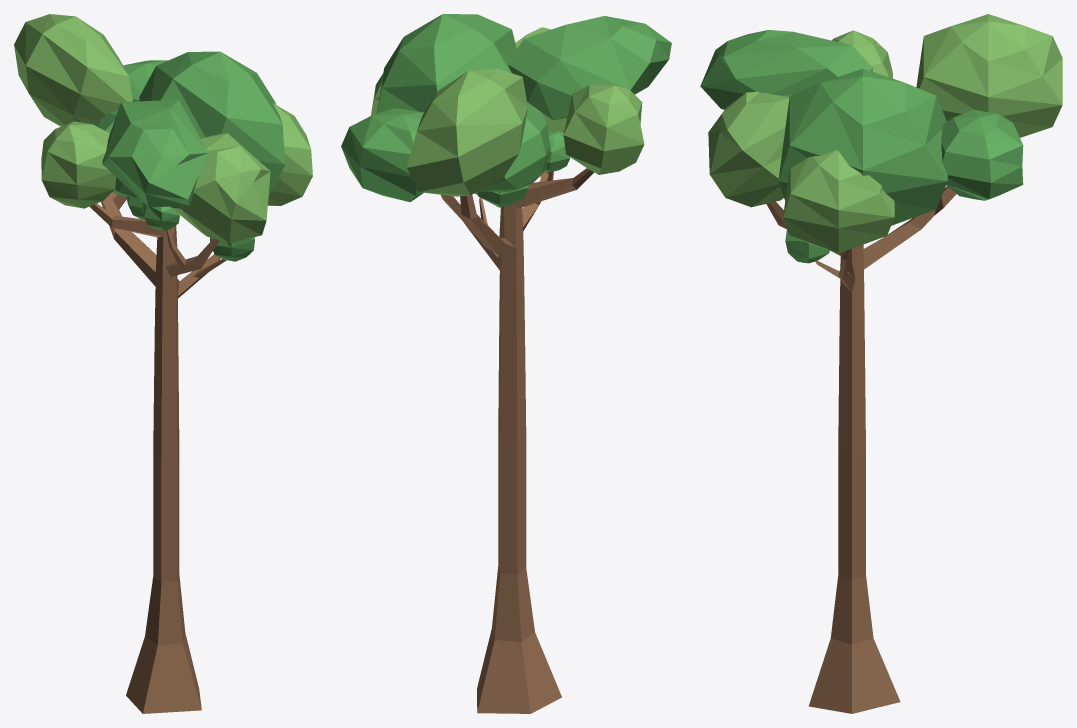
Rendered from fbxtallgreen.fbx.
The picture shows the model from 3 angles, left to right: view 1: azimuth 30°, elevation 25°; view 2: azimuth 150°, elevation 25°; view 3: azimuth 270°, elevation 25°; orthographic projection. The views are drawn at different scales.
Parts seen in each view (by area): view 1: polySurface234; view 2: polySurface234; view 3: polySurface234.
Boxes of the visible parts, <box> form: polySurface234: <box>14,14,312,713</box>; polySurface234: <box>341,14,671,713</box>; polySurface234: <box>700,14,1062,713</box>.
Bounding box in the file's own units: 18.44 × 43.77 × 21.61.
